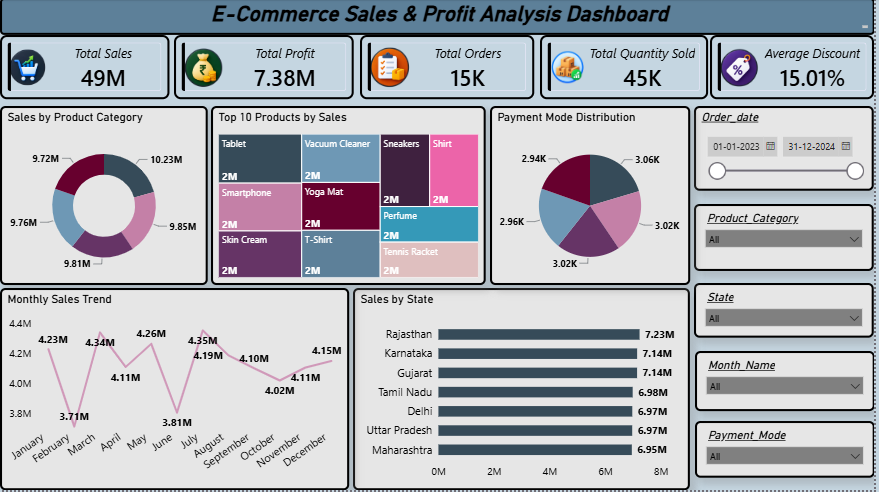

This screenshot's page, from the dashboard's own definition file:
{"tool":"powerbi","page":{"name":"Page 1","canvas":[1280,720],"ordinal":0},"visuals":[{"type":"cardVisual","title":"Total Sales","fields":{"Data":["ecommerce_sales_Clean_dataset.Total sales"]},"box":[0,54.1,247.7,93.6],"z":0},{"type":"cardVisual","fields":{"Data":["ecommerce_sales_Clean_dataset.Total profit"]},"box":[254.6,54.1,263.4,93.7],"z":1000},{"type":"cardVisual","fields":{"Data":["ecommerce_sales_Clean_dataset.Total Orders"]},"box":[526.8,54.1,254.6,93.7],"z":2000},{"type":"cardVisual","fields":{"Data":["ecommerce_sales_Clean_dataset.Total Quantity"]},"box":[785.9,54.1,245.9,93.7],"z":3000},{"type":"cardVisual","fields":{"Data":["ecommerce_sales_Clean_dataset.Average Discount"]},"box":[1039,54.1,240.5,93.6],"z":4000},{"type":"textbox","title":"E-Commerce Sales & Profit Analysis Dashboard","box":[0,0,1280.5,54.1],"z":5000},{"type":"donutChart","title":"Sales by Product Category","fields":{"Category":["ecommerce_sales_Clean_dataset.Product_Category"],"Y":["ecommerce_sales_Clean_dataset.Total sales"]},"box":[0,158,304.4,262],"z":6000},{"type":"clusteredBarChart","title":"Sales by State","fields":{"Category":["ecommerce_sales_Clean_dataset.State"],"Y":["ecommerce_sales_Clean_dataset.Total sales"]},"box":[516.6,424.4,493.2,295.6],"z":7000},{"type":"treemap","title":"Top 10 Products by Sales","fields":{"Group":["ecommerce_sales_Clean_dataset.Product_Name"],"Values":["ecommerce_sales_Clean_dataset.Total sales"]},"box":[308.8,158,402.4,262],"z":8000},{"type":"slicer","title":"Order_date","fields":{"Values":["ecommerce_sales_Clean_dataset.Order_Date"]},"box":[1015.6,158,263.4,124.4],"z":9000},{"type":"slicer","fields":{"Values":["ecommerce_sales_Clean_dataset.Product_Category"]},"box":[1015.6,301.5,263.4,98],"z":10000},{"type":"slicer","fields":{"Values":["ecommerce_sales_Clean_dataset.State"]},"box":[1015.6,417.1,263.4,80.5],"z":11000},{"type":"slicer","fields":{"Values":["ecommerce_sales_Clean_dataset.Payment_Mode"]},"box":[1015.6,518,263.4,83.4],"z":12000},{"type":"lineChart","title":"Monthly Sales Trend","fields":{"Category":["ecommerce_sales_Clean_dataset.Order_Date.Variation.Date Hierarchy.Month"],"Y":["ecommerce_sales_Clean_dataset.Total sales"]},"box":[0,424.4,510.7,295.6],"z":13000},{"type":"pieChart","title":"Payment Mode Distribution","fields":{"Category":["ecommerce_sales_Clean_dataset.Payment_Mode"],"Y":["CountNonNull(ecommerce_sales_Clean_dataset.Order_ID)"]},"box":[717.1,158,292.7,262],"z":14000},{"type":"slicer","title":"City","fields":{"Values":["ecommerce_sales_Clean_dataset.Month_name"]},"box":[1015.6,619,263.4,87.8],"z":15000}]}

Visuals, with their boxes in screenshot pixels (x1, y1, x2, y2), scaled from the page's 1280x720 canvas onto the 879x492 screenshot:
"Total Sales" cardVisual: x1=0 y1=37 x2=170 y2=101
cardVisual - ecommerce_sales_Clean_dataset.Total profit: x1=175 y1=37 x2=356 y2=101
cardVisual - ecommerce_sales_Clean_dataset.Total Orders: x1=362 y1=37 x2=537 y2=101
cardVisual - ecommerce_sales_Clean_dataset.Total Quantity: x1=540 y1=37 x2=709 y2=101
cardVisual - ecommerce_sales_Clean_dataset.Average Discount: x1=714 y1=37 x2=878 y2=101
"E-Commerce Sales & Profit Analysis Dashboard" textbox: x1=0 y1=0 x2=878 y2=37
"Sales by Product Category" donutChart: x1=0 y1=108 x2=209 y2=287
"Sales by State" clusteredBarChart: x1=355 y1=290 x2=693 y2=491
"Top 10 Products by Sales" treemap: x1=212 y1=108 x2=488 y2=287
"Order_date" slicer: x1=697 y1=108 x2=878 y2=193
slicer - ecommerce_sales_Clean_dataset.Product_Category: x1=697 y1=206 x2=878 y2=273
slicer - ecommerce_sales_Clean_dataset.State: x1=697 y1=285 x2=878 y2=340
slicer - ecommerce_sales_Clean_dataset.Payment_Mode: x1=697 y1=354 x2=878 y2=411
"Monthly Sales Trend" lineChart: x1=0 y1=290 x2=351 y2=491
"Payment Mode Distribution" pieChart: x1=492 y1=108 x2=693 y2=287
"City" slicer: x1=697 y1=423 x2=878 y2=483
